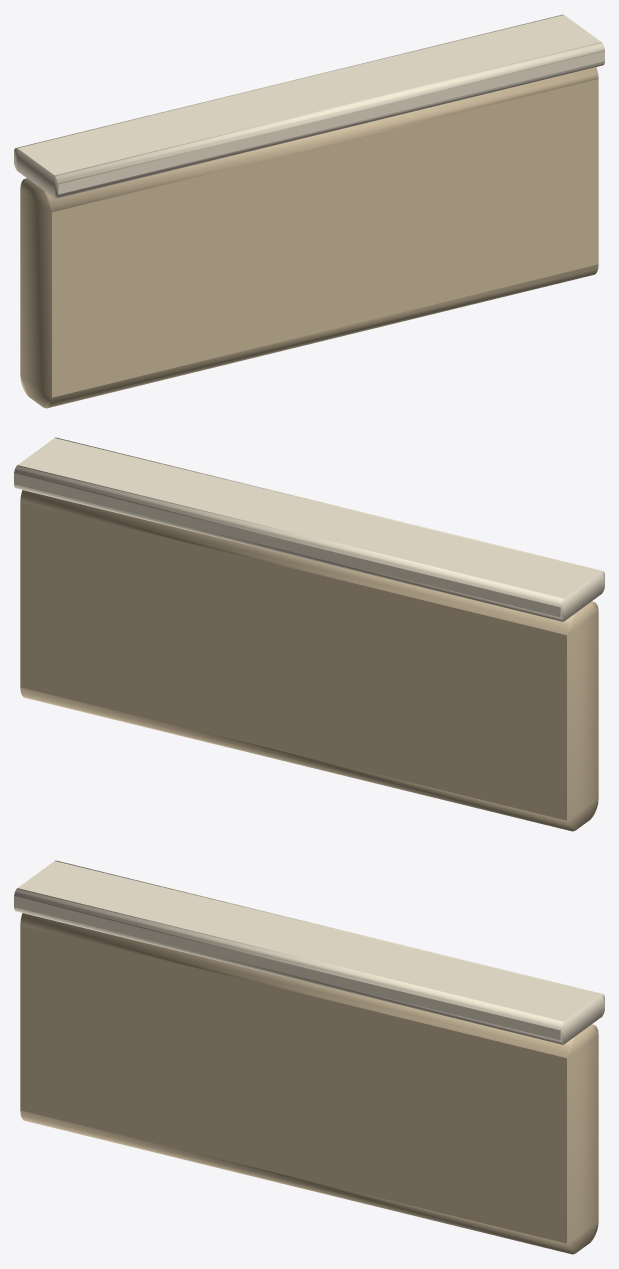
The model's file is Parapet.glb.
3 views of the same model, one above another, from view 1: azimuth 30°, elevation 25°; view 2: azimuth 150°, elevation 25°; view 3: azimuth 330°, elevation 25° (orthographic).
Visible parts, largest first — view 1: PBK_parapet.003, PBK_coping.003; view 2: PBK_parapet.003, PBK_coping.003; view 3: PBK_parapet.003, PBK_coping.003.
Part boxes in pixels (left/top/right/bottom): PBK_parapet.003: left=20, top=67, right=598, bottom=408; PBK_coping.003: left=14, top=14, right=604, bottom=198; PBK_parapet.003: left=20, top=490, right=598, bottom=831; PBK_coping.003: left=14, top=437, right=604, bottom=621; PBK_parapet.003: left=20, top=913, right=598, bottom=1254; PBK_coping.003: left=14, top=860, right=604, bottom=1044.
Size of the model in its own units: 2 by 0.84 by 0.28.
